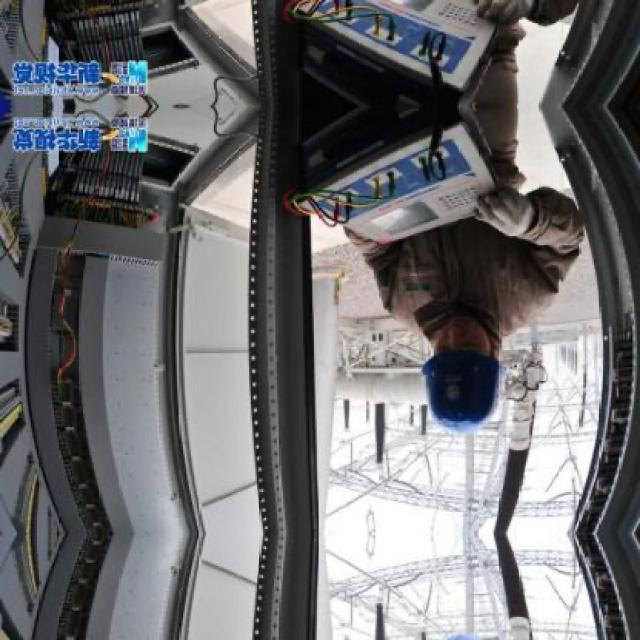con casco: (398, 259, 534, 456)
